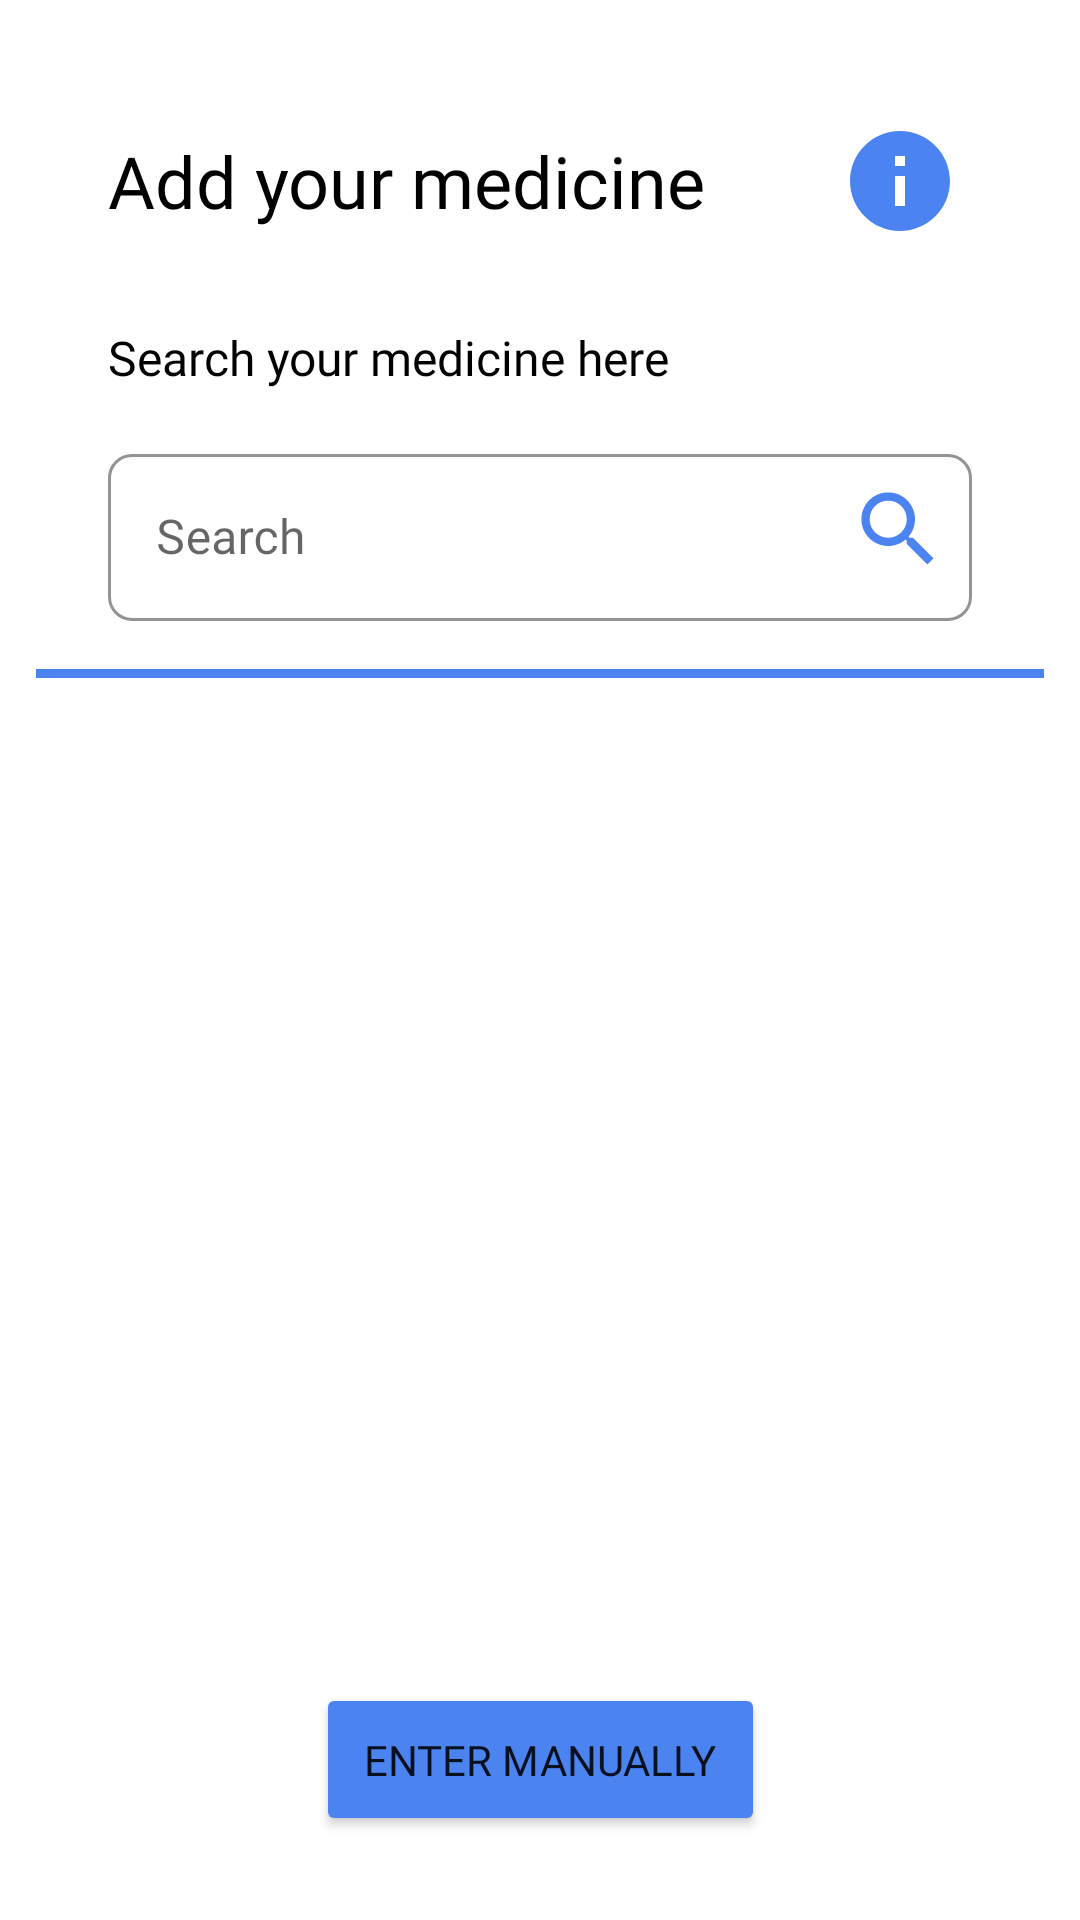

Icon bounding boxes for this 1080*1920 phone screenshot, format BBox(x1, y1, x2, y2):
info: BBox(850, 131, 950, 231)
